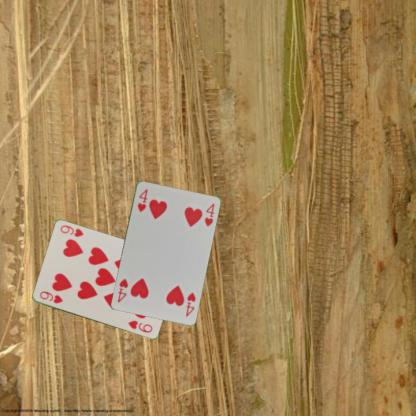4h: (134, 186, 148, 213), (183, 290, 197, 317)
9h: (37, 289, 64, 304)
